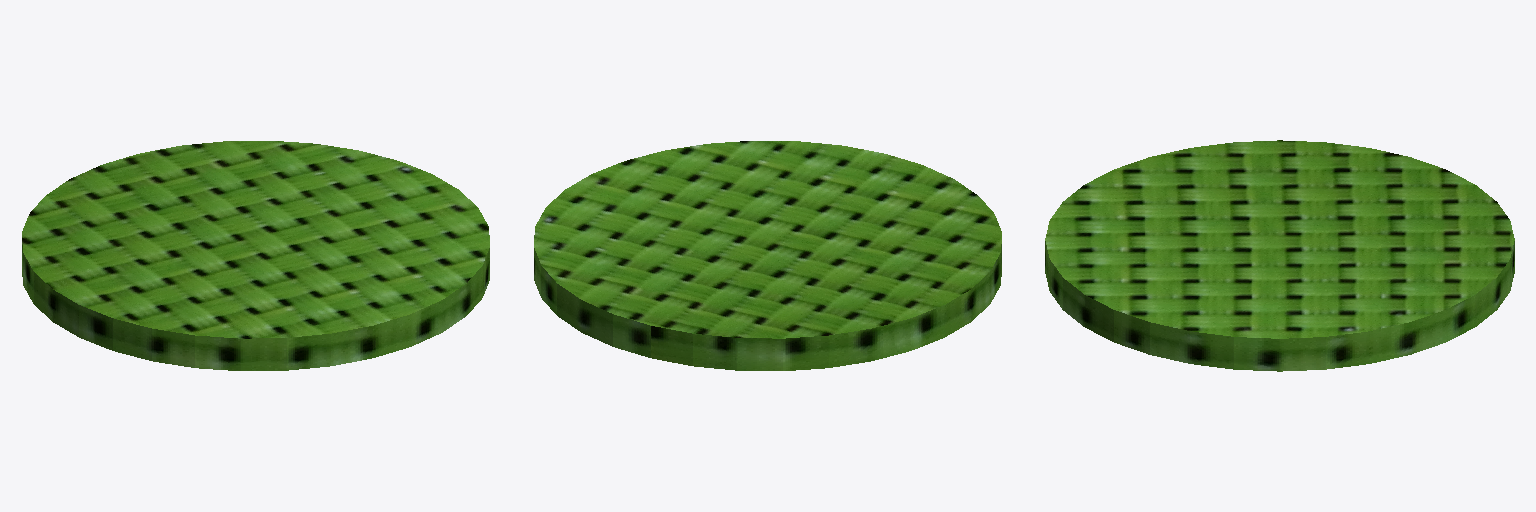
3 views of the same model, side by side, from view 1: azimuth 30°, elevation 25°; view 2: azimuth 150°, elevation 25°; view 3: azimuth 270°, elevation 25° (orthographic).
Parts seen in each view (by area): view 1: Цилиндр; view 2: Цилиндр; view 3: Цилиндр.
Part boxes in pixels (x1,y1,x2,y2): Цилиндр: (22, 141, 489, 370); Цилиндр: (534, 141, 1001, 370); Цилиндр: (1045, 140, 1514, 371).
Bounding box in the file's own units: 0.65 × 0.05 × 0.65.
1 materials, 1 textured.